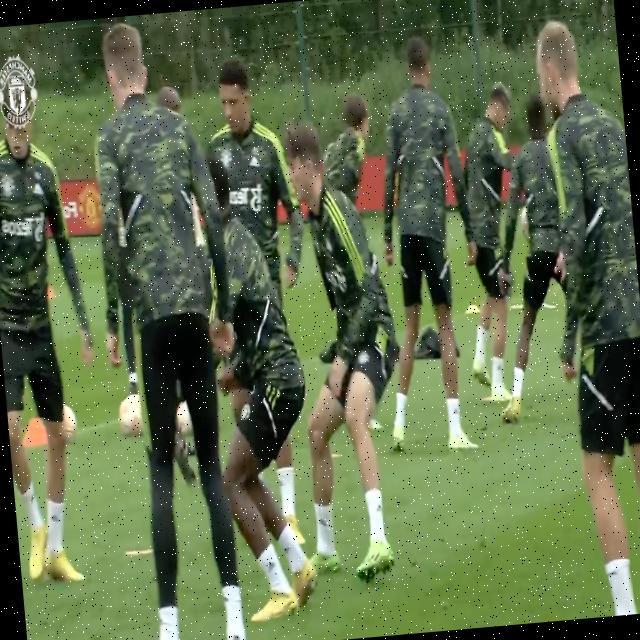Adidas: (30, 180, 44, 199), (248, 152, 261, 169), (265, 555, 276, 575), (317, 514, 328, 530), (374, 500, 383, 515)
